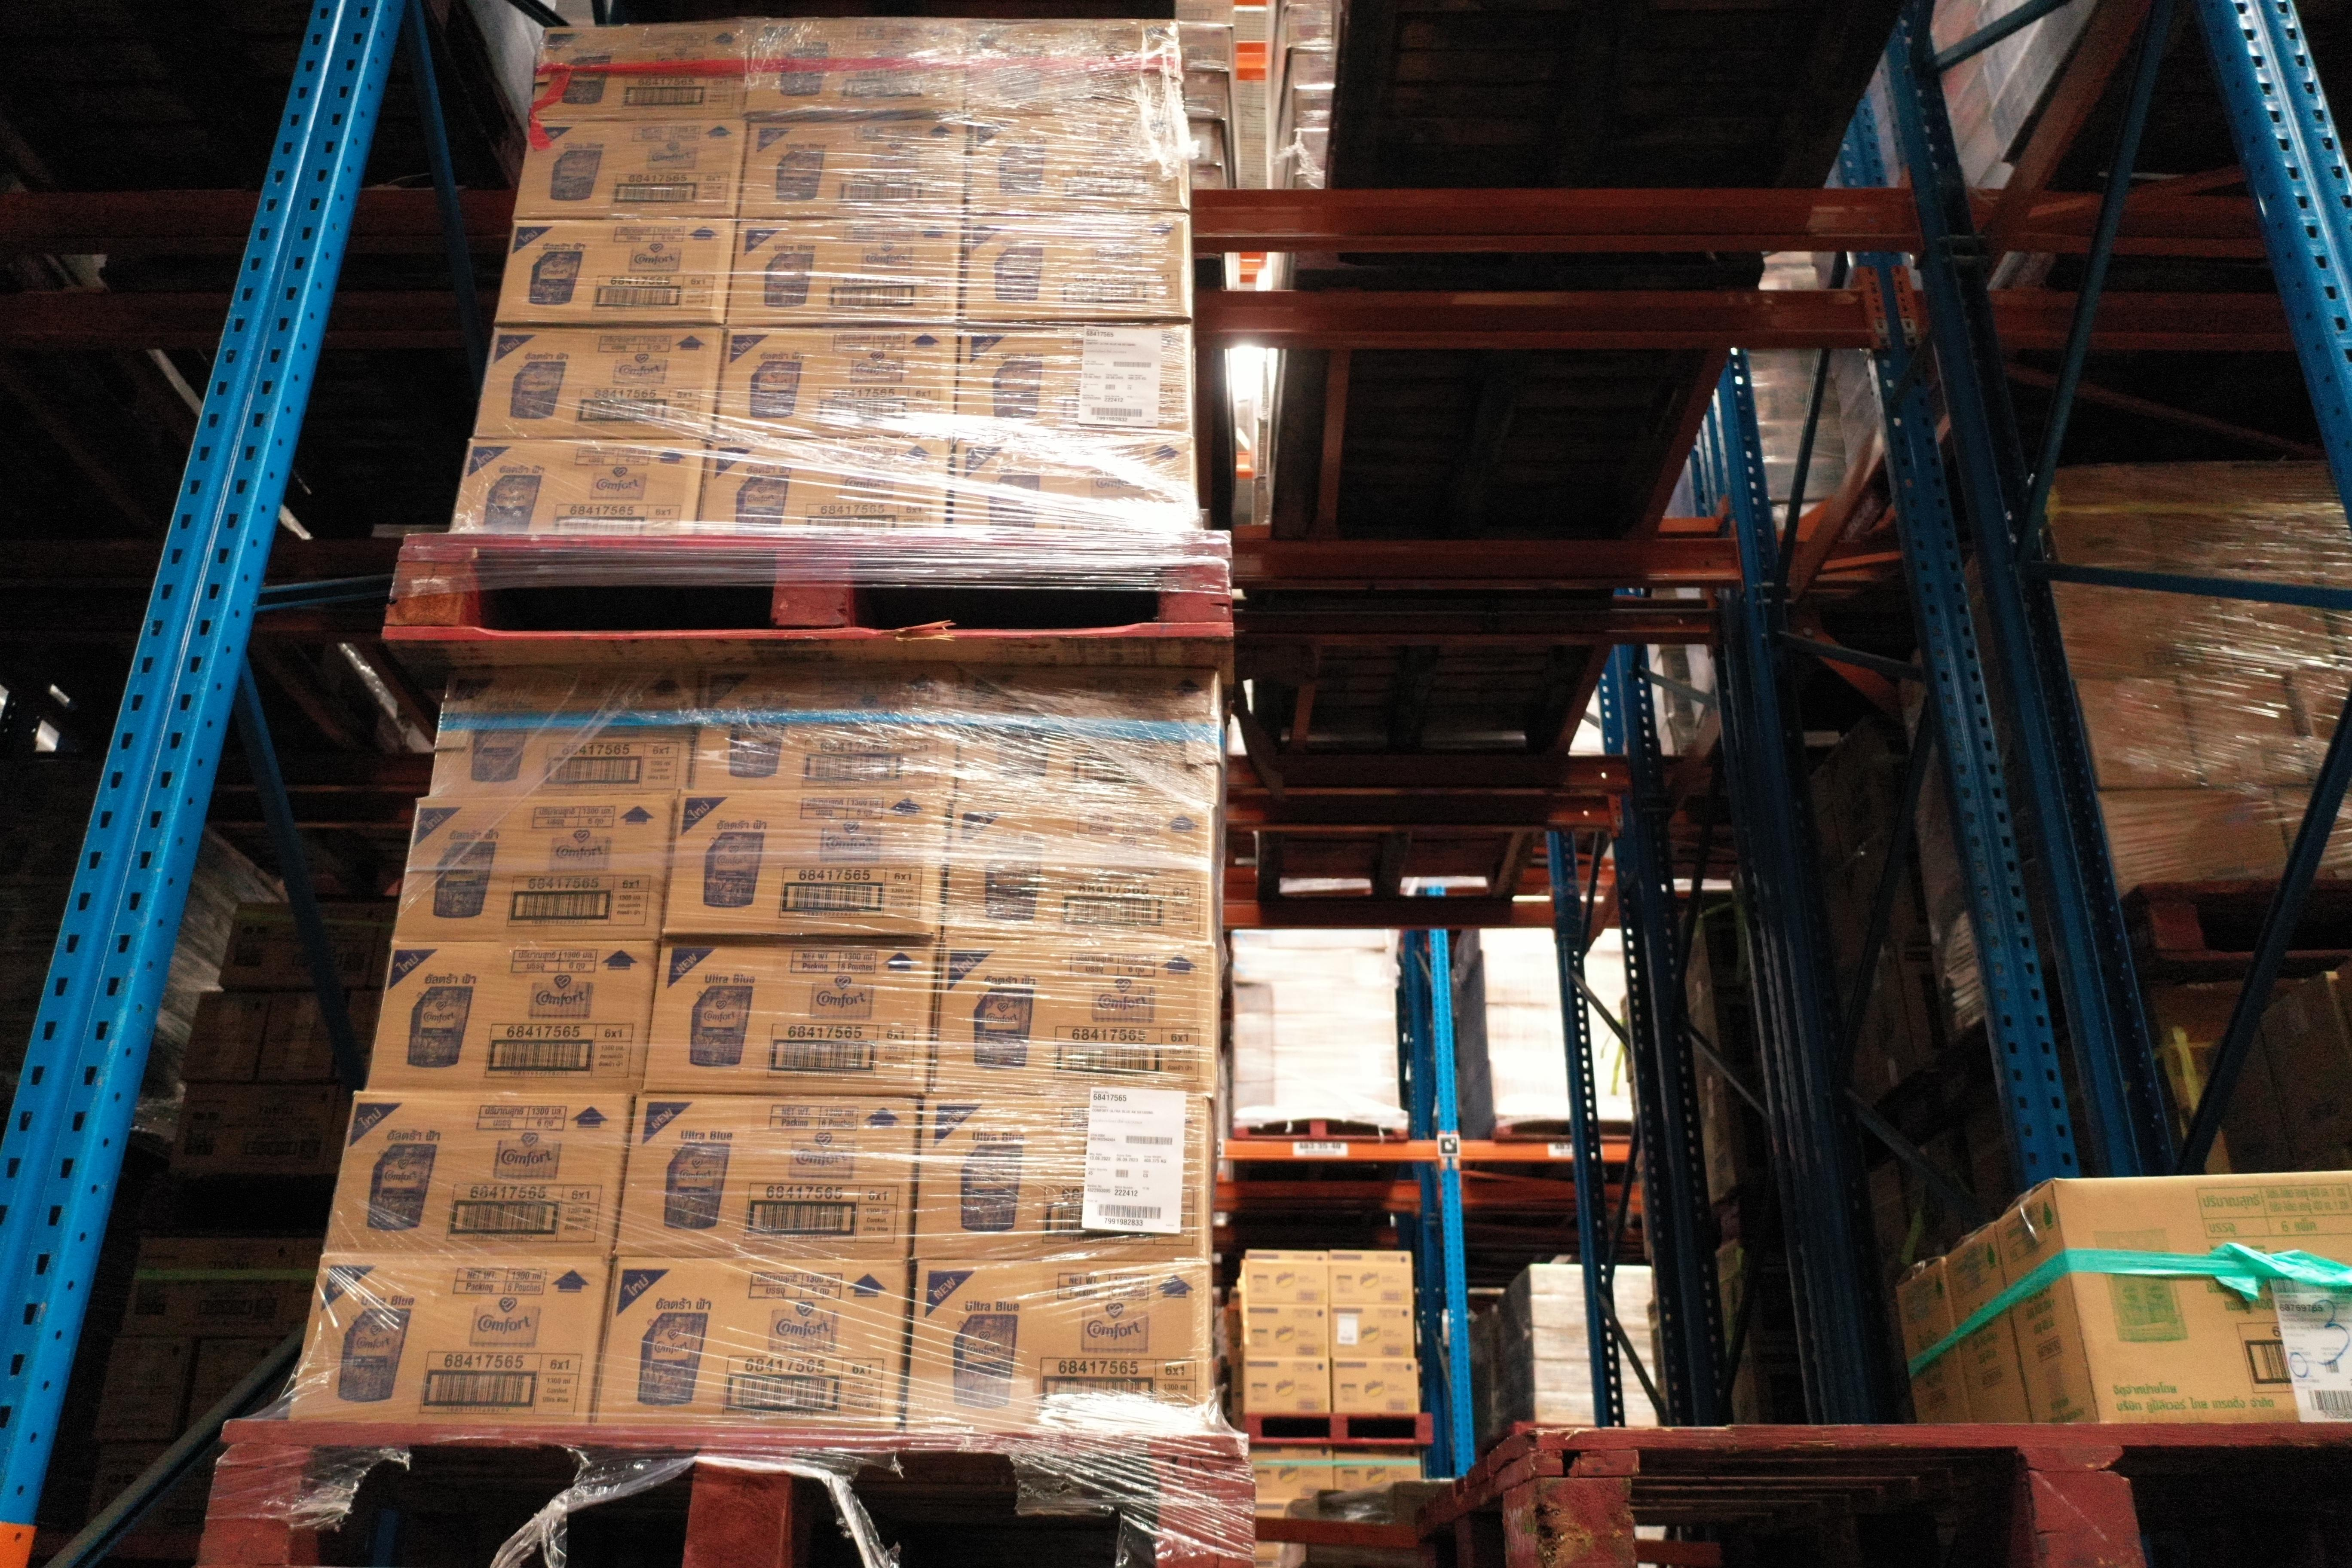-: (2054, 1169, 2352, 1426), (588, 1255, 912, 1440), (290, 1253, 611, 1431), (901, 1256, 1209, 1433), (611, 1090, 920, 1263), (324, 1085, 633, 1256), (908, 1092, 1213, 1263), (924, 931, 1216, 1099), (644, 936, 940, 1095), (367, 936, 660, 1095), (941, 791, 1216, 950), (661, 789, 952, 936), (395, 794, 675, 943), (954, 661, 1221, 803), (430, 667, 705, 800), (691, 661, 959, 791), (472, 322, 728, 443), (709, 322, 962, 443), (952, 320, 1195, 443), (943, 434, 1197, 548), (696, 436, 952, 544), (493, 215, 737, 327), (726, 213, 964, 327), (453, 434, 707, 539), (737, 112, 973, 220), (959, 213, 1190, 324), (747, 16, 971, 122), (968, 114, 1190, 219), (514, 121, 752, 219), (535, 21, 759, 124), (968, 17, 1186, 121)
box: (2095, 782, 2298, 892), (2054, 569, 2242, 679), (2175, 672, 2312, 784), (2072, 679, 2205, 789), (2138, 464, 2270, 572), (2035, 469, 2166, 576), (2215, 563, 2338, 672), (2235, 462, 2352, 572)
